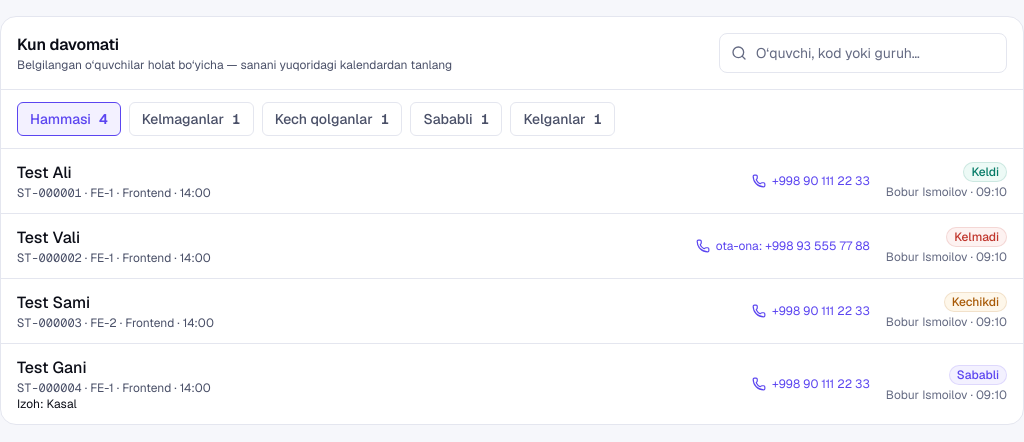
Test: Kun davomati ro‘yxati › qidiruv guruh va ism bo‘yicha toraytiradi
The width and height of the screenshot is (1024, 442).
Expected: the link "Test Ali" is shown, [17,162,72,183]
Type "FE-2" into the search field named "Kun davomatida qidirish".
click(863, 53); type("FE-2")  # box [719,33,1007,73]
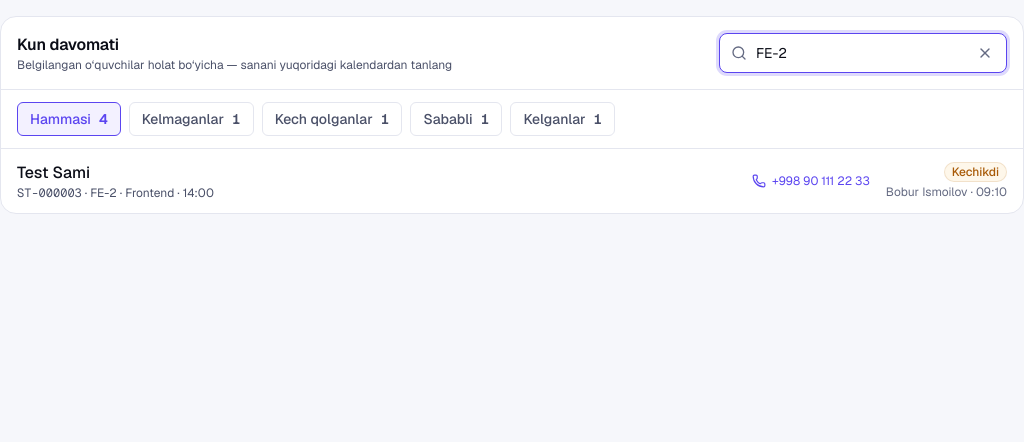
Expected: the link "Test Sami" is shown, [17,162,90,183]
Expected: the link "Test Ali" is gone
